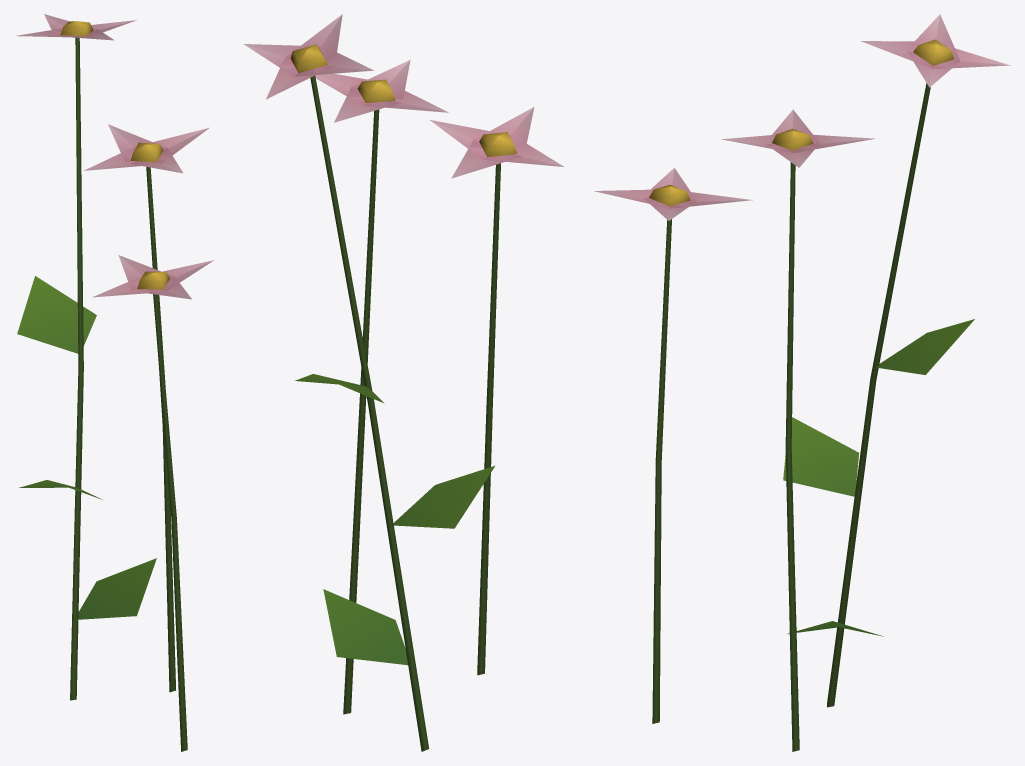
Rendered from flower-wild-rose-b.lod2.glb.
3 renders of one model, left to right at view 1: azimuth 30°, elevation 25°; view 2: azimuth 150°, elevation 25°; view 3: azimuth 270°, elevation 25°, orthographic. The views are drawn at different scales.
Visible parts, largest first — view 1: flower-wild-rose-b.lod2; view 2: flower-wild-rose-b.lod2; view 3: flower-wild-rose-b.lod2.
Part boxes in pixels (x1,y1,x2,y2): flower-wild-rose-b.lod2: [16, 14, 214, 751]; flower-wild-rose-b.lod2: [243, 14, 563, 751]; flower-wild-rose-b.lod2: [594, 14, 1010, 751].
Bounding box in the file's own units: 0.1268 × 0.438 × 0.2385.
